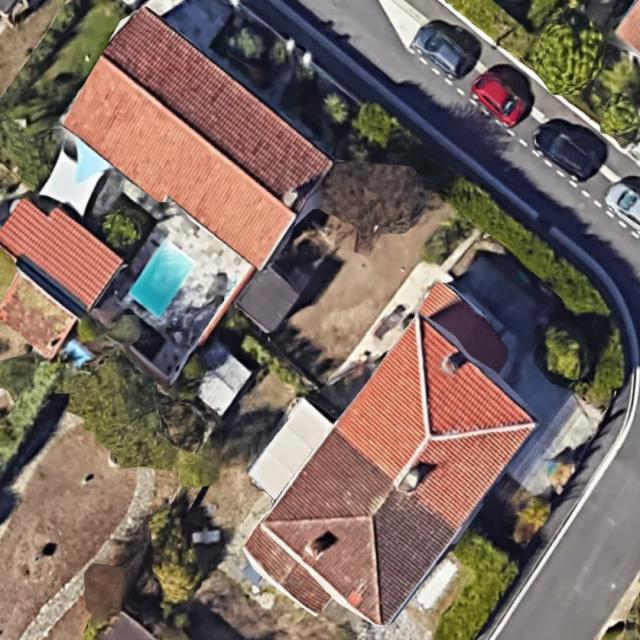maison: (232, 276, 575, 640), (50, 4, 343, 280)
